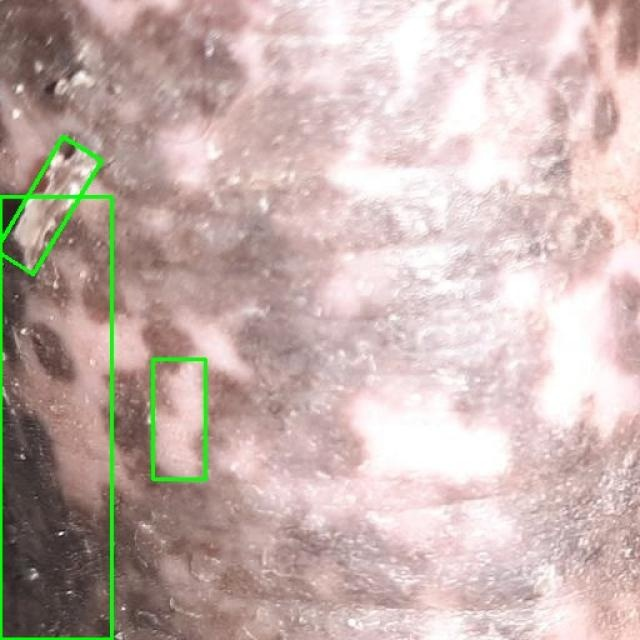Eczema: (0, 196, 111, 639), (0, 137, 103, 276), (152, 359, 205, 479)
